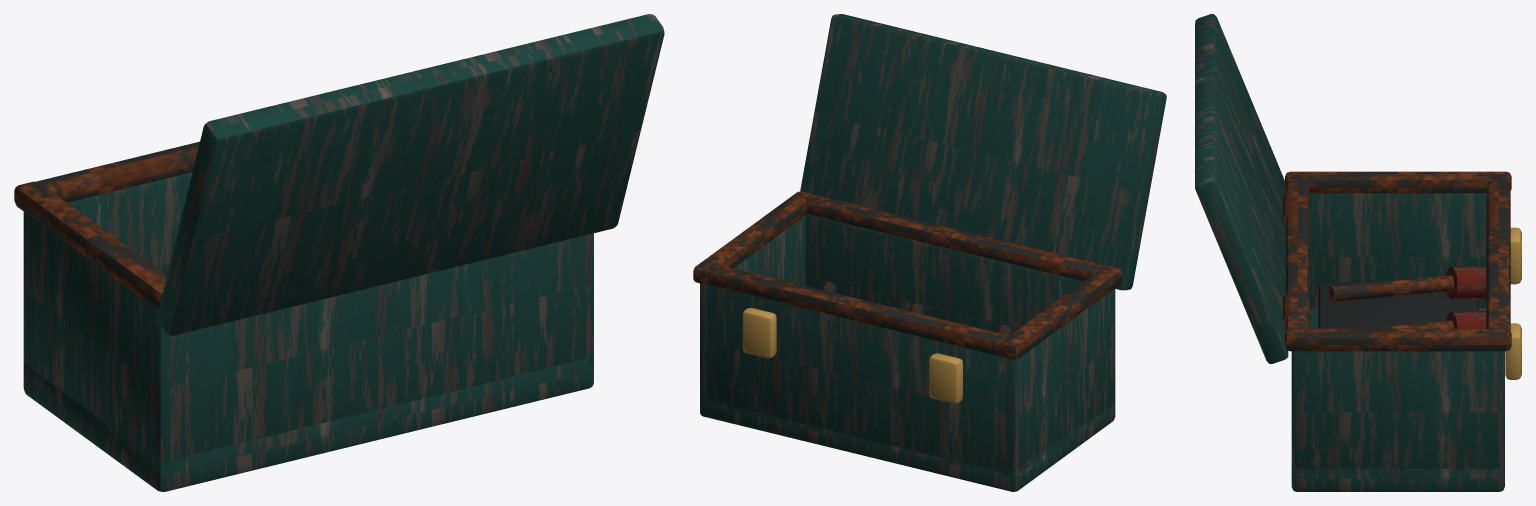
The model's file is SM_OpenToolbox_a064e40056.fbx.
3 views of the same model, side by side, from view 1: azimuth 30°, elevation 25°; view 2: azimuth 150°, elevation 25°; view 3: azimuth 270°, elevation 25° (orthographic). The views are drawn at different scales.
Visible parts, largest first — view 1: SM_OpenToolbox_a064e40056; view 2: SM_OpenToolbox_a064e40056; view 3: SM_OpenToolbox_a064e40056.
Boxes of the visible parts, x1,y1,x2,y2 form: SM_OpenToolbox_a064e40056: (14,14,664,491); SM_OpenToolbox_a064e40056: (693,14,1166,491); SM_OpenToolbox_a064e40056: (1195,14,1521,491).
Size of what is drawn, in the model's own units: 60 by 49.04 by 52.31.
Materials: 5 (3 with a texture image).
